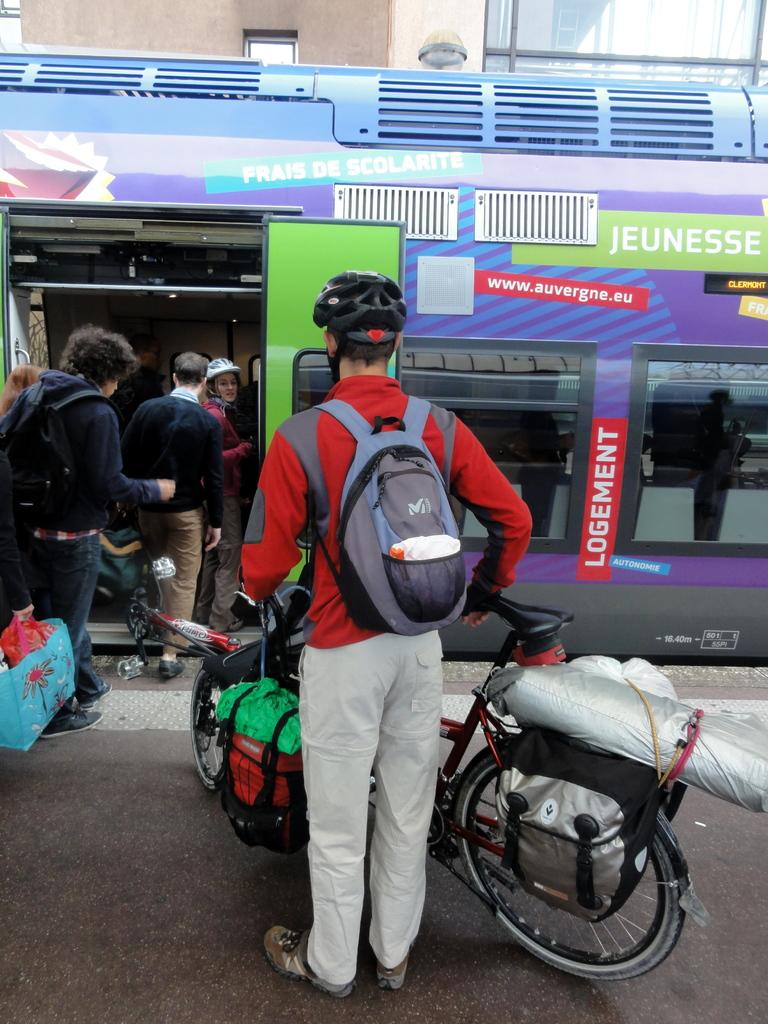Luggage-and-bags: (502, 639, 684, 923), (316, 389, 468, 634), (211, 673, 304, 855), (0, 374, 108, 524), (1, 620, 79, 751)
